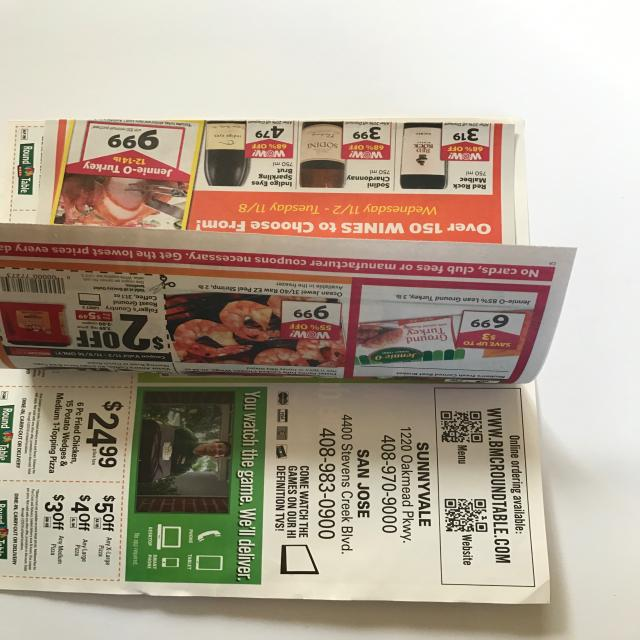paper: (0, 110, 572, 608)
